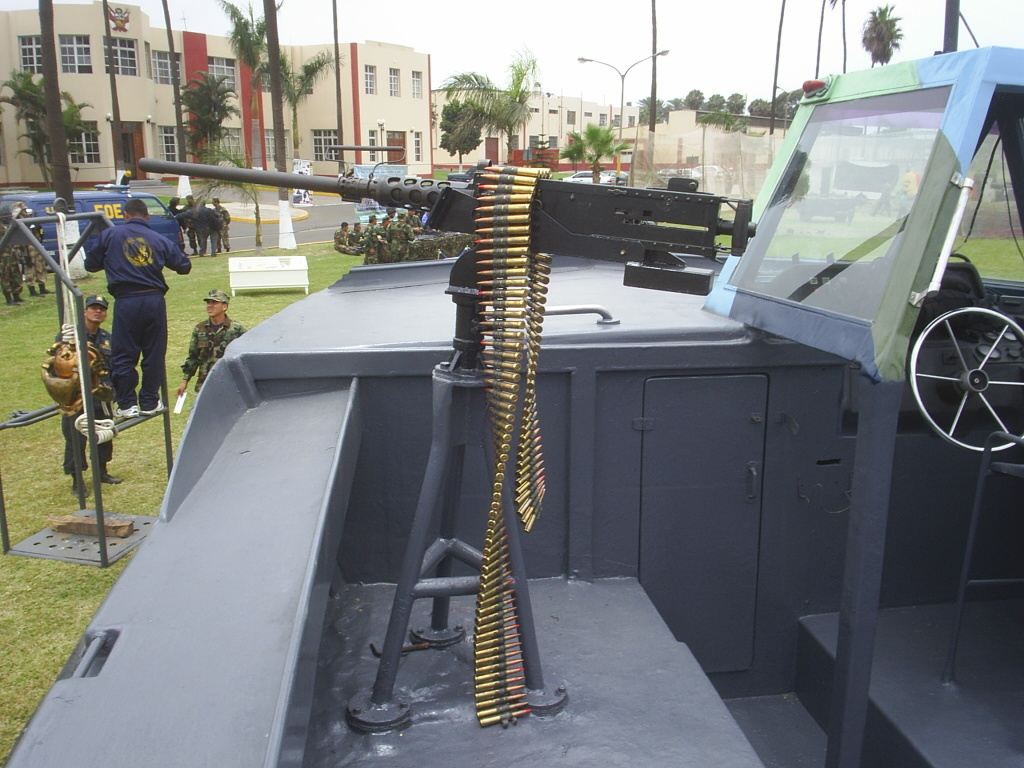rifle: (118, 142, 759, 252)
